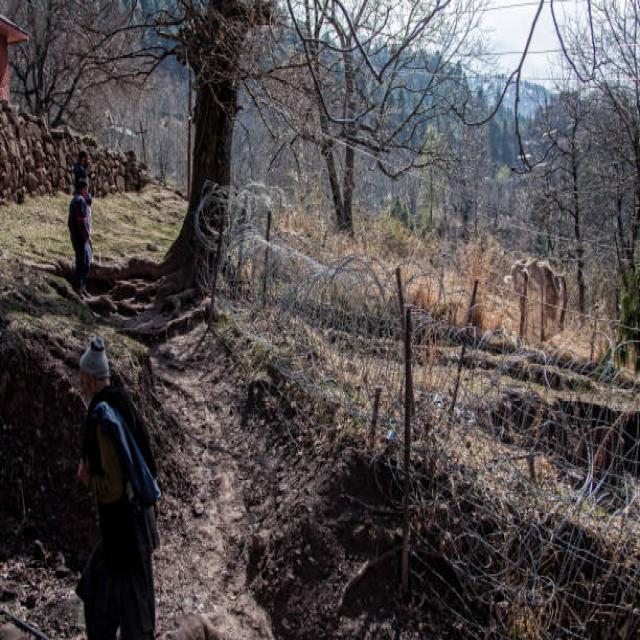civilian: (76, 336, 160, 638), (68, 179, 91, 296), (73, 151, 88, 180)
